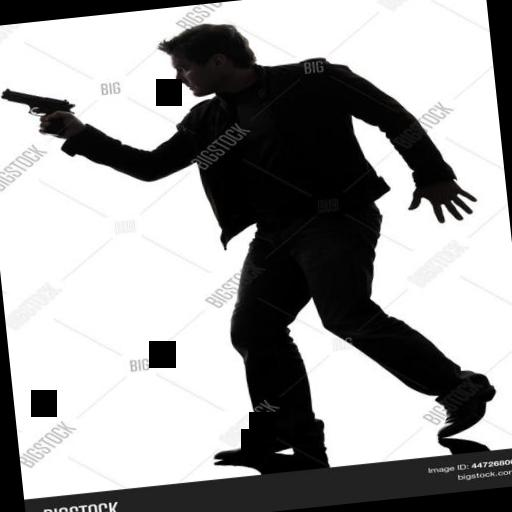Handgun: (0, 80, 77, 139)
